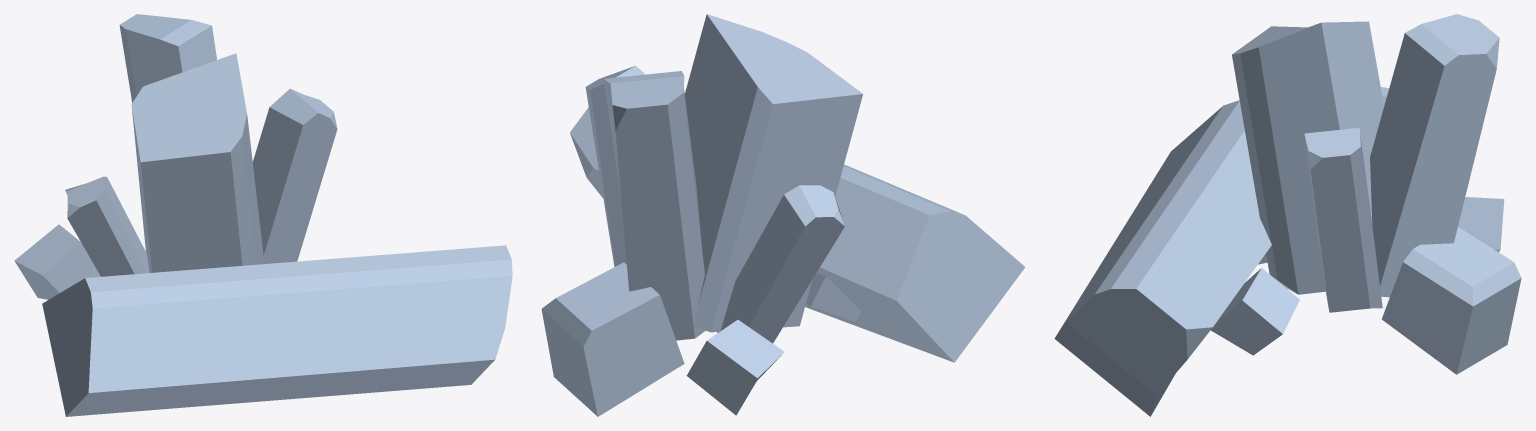
The model's file is crysta6.glb.
3 views of the same model, side by side, from view 1: azimuth 30°, elevation 25°; view 2: azimuth 150°, elevation 25°; view 3: azimuth 270°, elevation 25° (orthographic). The views are drawn at different scales.
Visible parts, largest first — view 1: crysta6; view 2: crysta6; view 3: crysta6.
Part boxes in pixels (x1,y1,x2,y2): crysta6: (14, 14, 512, 416); crysta6: (541, 14, 1025, 416); crysta6: (1054, 14, 1521, 416).
Bounding box in the file's own units: 3.31 × 2.36 × 3.15.
